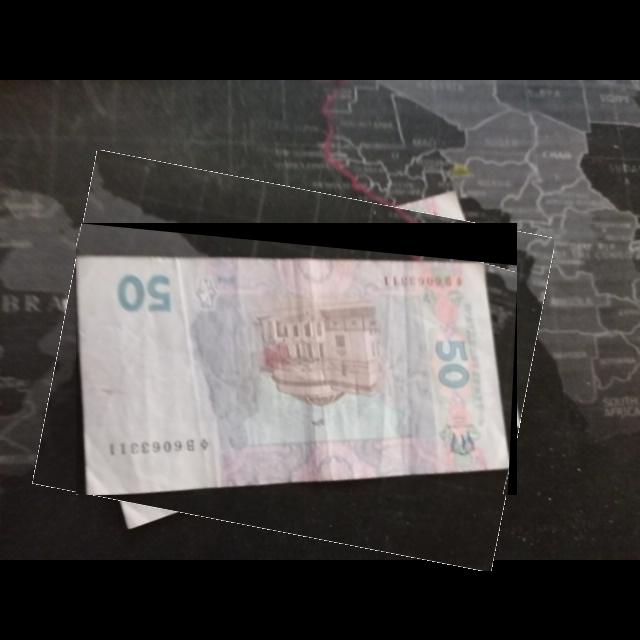50uah: (76, 255, 512, 496)
